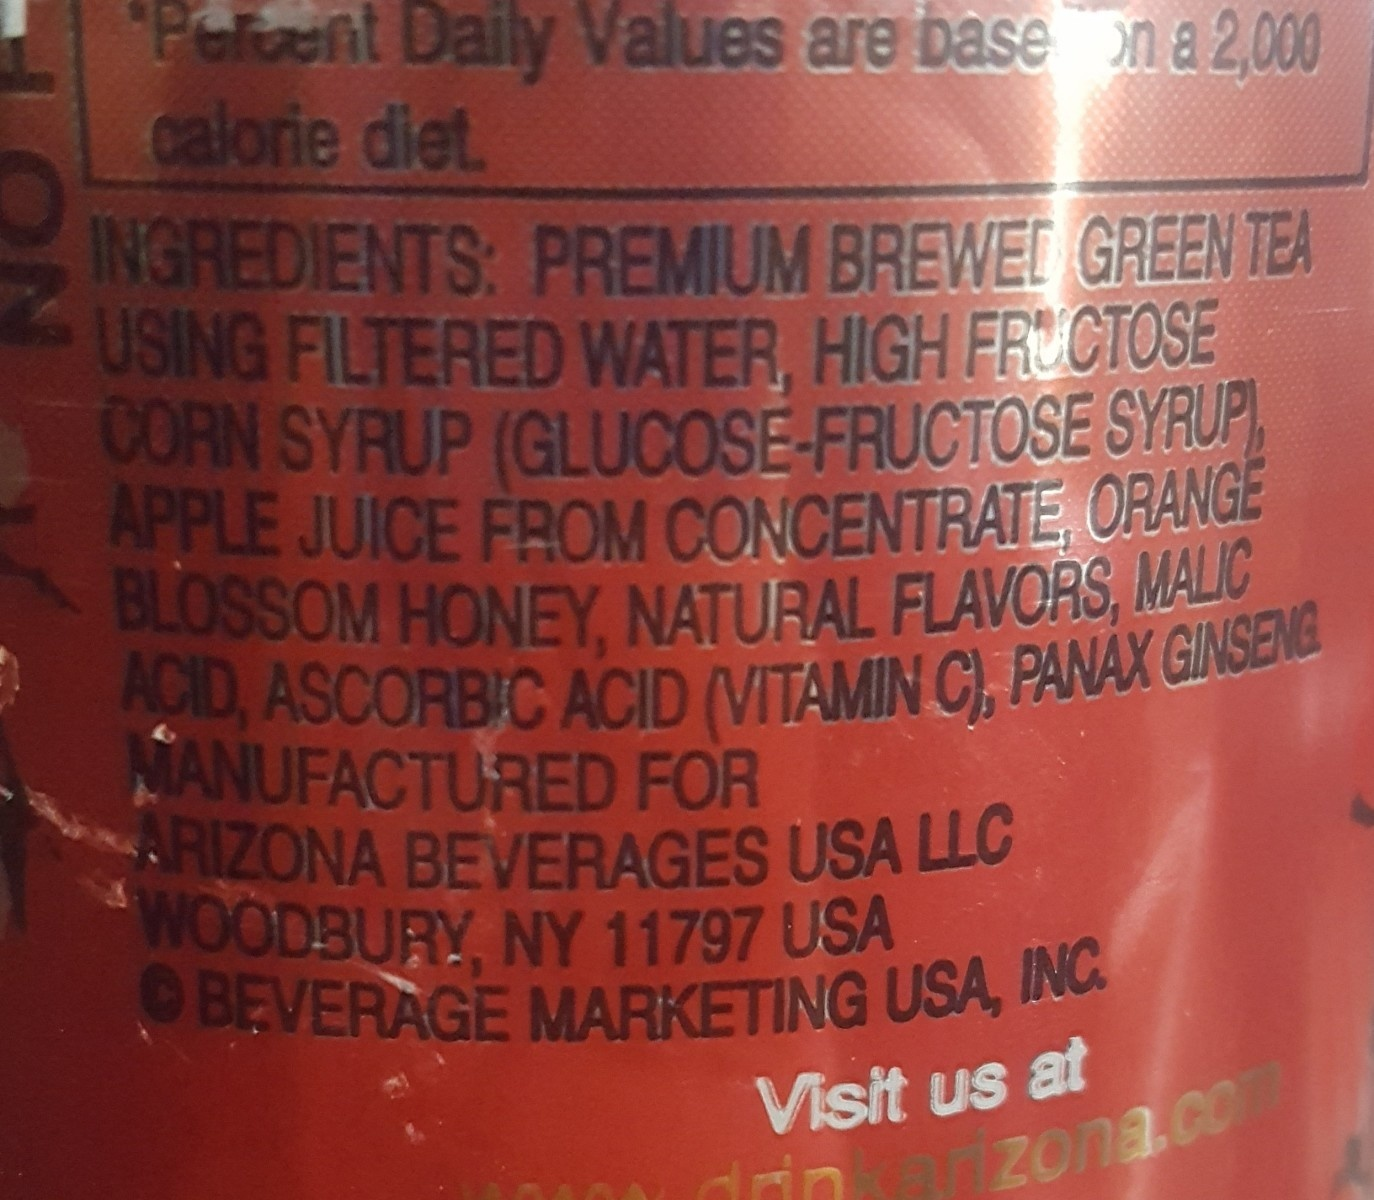ingredients: (79, 195, 1366, 737)
